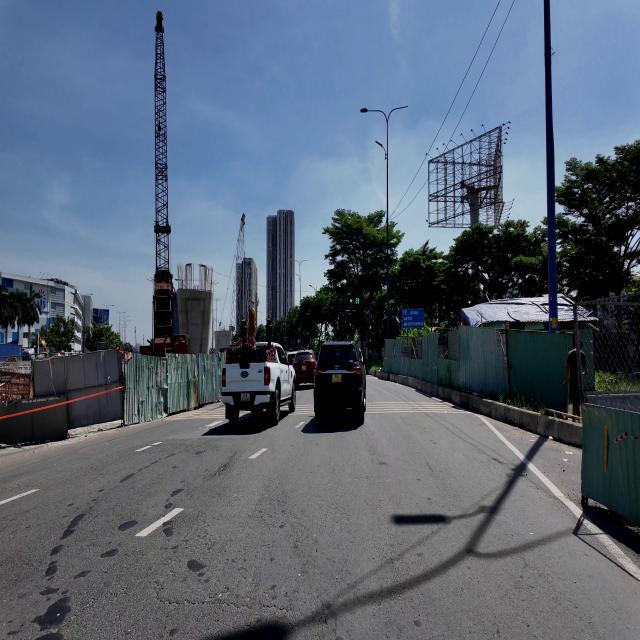car: (222, 343, 295, 425), (314, 342, 367, 424), (293, 350, 316, 385)
